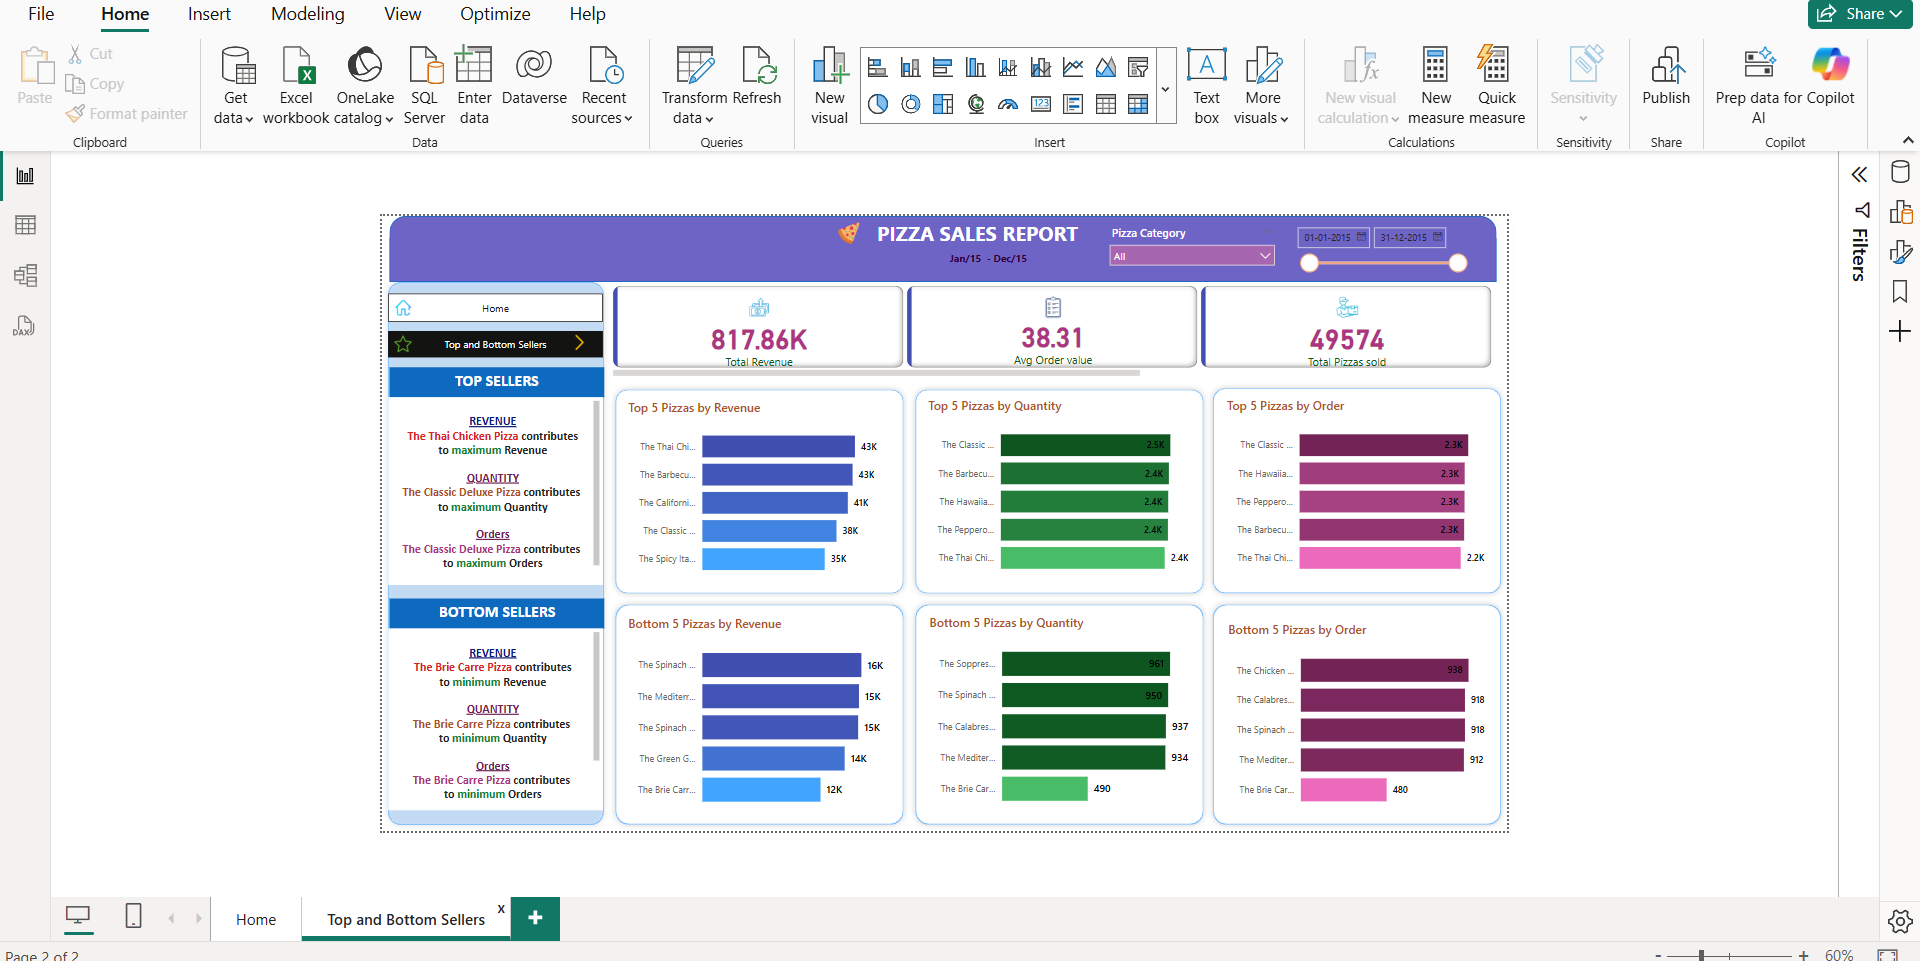

What the dashboard file says about the page in this screenshot:
{"tool":"powerbi","page":{"name":"Top and Bottom Sellers ","canvas":[1500,820],"ordinal":1},"visuals":[{"type":"shape","box":[302.7,222.7,400,288],"z":0},{"type":"shape","box":[0,80,303.8,740],"z":1000},{"type":"shape","box":[10,0,1476,88],"z":2000},{"type":"textbox","box":[655,0,287.5,52.5],"z":3000},{"type":"textbox","box":[752,42,124,36],"z":4000},{"type":"image","box":[590.5,4.1,64.9,39.2],"z":5000},{"type":"textbox","box":[9.2,202.3,286.2,40],"z":6000},{"type":"textbox","box":[8.9,242.2,286.7,250],"z":7000},{"type":"textbox","box":[10,510,286.7,40],"z":8000},{"type":"textbox","box":[8.9,550,286.7,242.2],"z":9000},{"type":"slicer","fields":{"Values":["pizza_sales.pizza_category"]},"box":[960,6,240,76],"z":10000},{"type":"slicer","fields":{"Values":["pizza_sales.order_date"]},"box":[1208.8,5,247.5,75],"z":11000},{"type":"shape","box":[702.7,222.7,400,288],"z":12000},{"type":"shape","box":[1100,221.3,400,289.3],"z":13000},{"type":"shape","box":[304,510.7,400,309.3],"z":14000},{"type":"shape","box":[704,510.7,400,309.3],"z":15000},{"type":"shape","box":[1100,510.7,400,309.3],"z":16000},{"type":"barChart","title":"Top 5 Pizzas by Revenue","fields":{"Category":["pizza_sales.pizza_name"],"Y":["pizza_sales.Total Revenue"]},"box":[322.7,242.7,362.7,250],"z":17000},{"type":"cardVisual","fields":{"Data":["pizza_sales.Total Revenue","pizza_sales.Avg Order value","pizza_sales.Total Pizzas sold","pizza_sales.Total Orders","pizza_sales.Avg Pizzas Per Order"]},"box":[303.8,87.5,1182.5,132.5],"z":18000},{"type":"barChart","title":"Bottom 5 Pizzas by Revenue","fields":{"Category":["pizza_sales.pizza_name"],"Y":["pizza_sales.Total Revenue"]},"box":[323.3,531.1,363.3,272.2],"z":19000},{"type":"barChart","title":"Top 5 Pizzas by Quantity","fields":{"Category":["pizza_sales.pizza_name"],"Y":["pizza_sales.Total Pizzas sold"]},"box":[722.7,240.9,357.3,250],"z":20000},{"type":"barChart","title":"Bottom 5 Pizzas by Quantity","fields":{"Category":["pizza_sales.pizza_name"],"Y":["pizza_sales.Total Pizzas sold"]},"box":[724.5,530,357.3,272.7],"z":21000},{"type":"barChart","title":"Top 5 Pizzas by Order","fields":{"Category":["pizza_sales.pizza_name"],"Y":["pizza_sales.Total Orders"]},"box":[1121.8,240.9,357.3,250],"z":22000},{"type":"barChart","title":"Bottom 5 Pizzas by Order","fields":{"Category":["pizza_sales.pizza_name"],"Y":["pizza_sales.Total Orders"]},"box":[1122.7,540,357.3,262.7],"z":23000},{"type":"pageNavigator","box":[8.7,154,286.7,35.3],"z":24000},{"type":"pageNavigator","box":[8.7,104,286.7,38],"z":25000},{"type":"image","box":[245.3,154,36.7,30.7],"z":26000},{"type":"image","box":[0,107.3,57.3,31.3],"z":27000},{"type":"image","box":[12,149.3,33.3,40],"z":28000}]}

Visuals, with their boxes on the page's 1500x820 design canvas (x1, y1, x2, y2). These are canvas units, not pixel positions in the 1920x961 screenshot, which may show the page scaled, cropped or inside an application window:
shape: {"left": 303, "top": 223, "right": 703, "bottom": 511}
shape: {"left": 0, "top": 80, "right": 304, "bottom": 820}
shape: {"left": 10, "top": 0, "right": 1486, "bottom": 88}
textbox: {"left": 655, "top": 0, "right": 942, "bottom": 52}
textbox: {"left": 752, "top": 42, "right": 876, "bottom": 78}
image: {"left": 590, "top": 4, "right": 655, "bottom": 43}
textbox: {"left": 9, "top": 202, "right": 295, "bottom": 242}
textbox: {"left": 9, "top": 242, "right": 296, "bottom": 492}
textbox: {"left": 10, "top": 510, "right": 297, "bottom": 550}
textbox: {"left": 9, "top": 550, "right": 296, "bottom": 792}
slicer - pizza_sales.pizza_category: {"left": 960, "top": 6, "right": 1200, "bottom": 82}
slicer - pizza_sales.order_date: {"left": 1209, "top": 5, "right": 1456, "bottom": 80}
shape: {"left": 703, "top": 223, "right": 1103, "bottom": 511}
shape: {"left": 1100, "top": 221, "right": 1500, "bottom": 511}
shape: {"left": 304, "top": 511, "right": 704, "bottom": 820}
shape: {"left": 704, "top": 511, "right": 1104, "bottom": 820}
shape: {"left": 1100, "top": 511, "right": 1500, "bottom": 820}
"Top 5 Pizzas by Revenue" barChart: {"left": 323, "top": 243, "right": 685, "bottom": 493}
cardVisual - pizza_sales.Total Revenue x pizza_sales.Avg Order value: {"left": 304, "top": 88, "right": 1486, "bottom": 220}
"Bottom 5 Pizzas by Revenue" barChart: {"left": 323, "top": 531, "right": 687, "bottom": 803}
"Top 5 Pizzas by Quantity" barChart: {"left": 723, "top": 241, "right": 1080, "bottom": 491}
"Bottom 5 Pizzas by Quantity" barChart: {"left": 724, "top": 530, "right": 1082, "bottom": 803}
"Top 5 Pizzas by Order" barChart: {"left": 1122, "top": 241, "right": 1479, "bottom": 491}
"Bottom 5 Pizzas by Order" barChart: {"left": 1123, "top": 540, "right": 1480, "bottom": 803}
pageNavigator: {"left": 9, "top": 154, "right": 295, "bottom": 189}
pageNavigator: {"left": 9, "top": 104, "right": 295, "bottom": 142}
image: {"left": 245, "top": 154, "right": 282, "bottom": 185}
image: {"left": 0, "top": 107, "right": 57, "bottom": 139}
image: {"left": 12, "top": 149, "right": 45, "bottom": 189}
